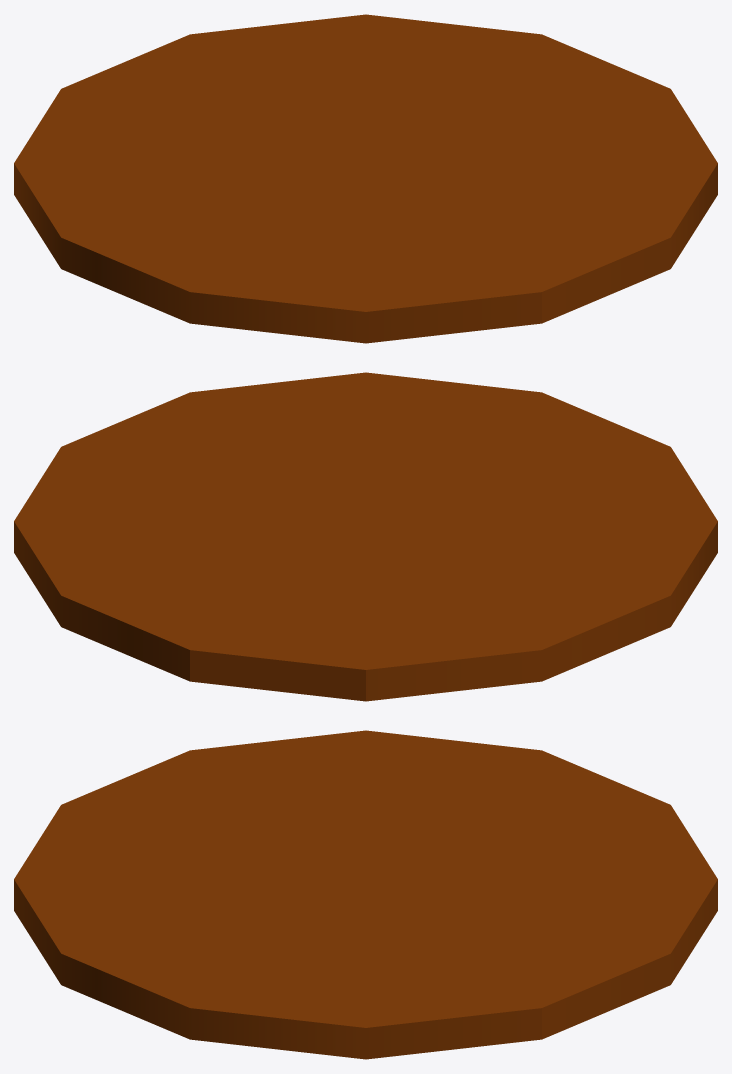
The model's file is house_template_8.fbx.
3 renders of one model, top to bottom at view 1: azimuth 30°, elevation 25°; view 2: azimuth 150°, elevation 25°; view 3: azimuth 270°, elevation 25°, orthographic.
Visible parts, largest first — view 1: house template_8; view 2: house template_8; view 3: house template_8.
Boxes of the visible parts, <box> form: house template_8: <box>14,14,717,343</box>; house template_8: <box>14,372,717,701</box>; house template_8: <box>14,730,717,1059</box>.
Bounding box in the file's own units: 118 × 5.83 × 118.
